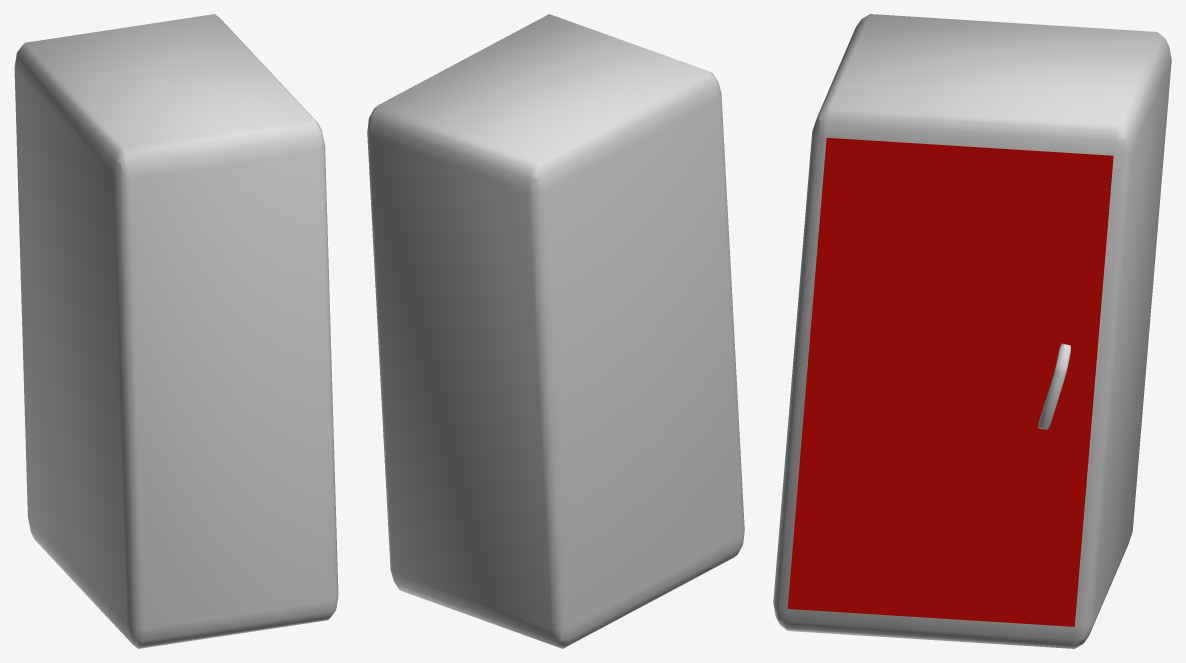
The model's file is fridge 1.fbx.
The picture shows the model from 3 angles, left to right: view 1: azimuth 30°, elevation 25°; view 2: azimuth 150°, elevation 25°; view 3: azimuth 270°, elevation 25°; orthographic projection. The views are drawn at different scales.
Visible parts, largest first — view 1: Cube; view 2: Cube; view 3: Cube.001, Cube, Cube.002.
Part boxes in pixels (x1=…): Cube: x1=14, y1=14, x2=338, y2=648; Cube: x1=367, y1=14, x2=744, y2=648; Cube.001: x1=787, y1=138, x2=1113, y2=626; Cube: x1=773, y1=14, x2=1171, y2=648; Cube.002: x1=1038, y1=343, x2=1070, y2=430.
Bounding box in the file's own units: 243 × 472 × 322.
